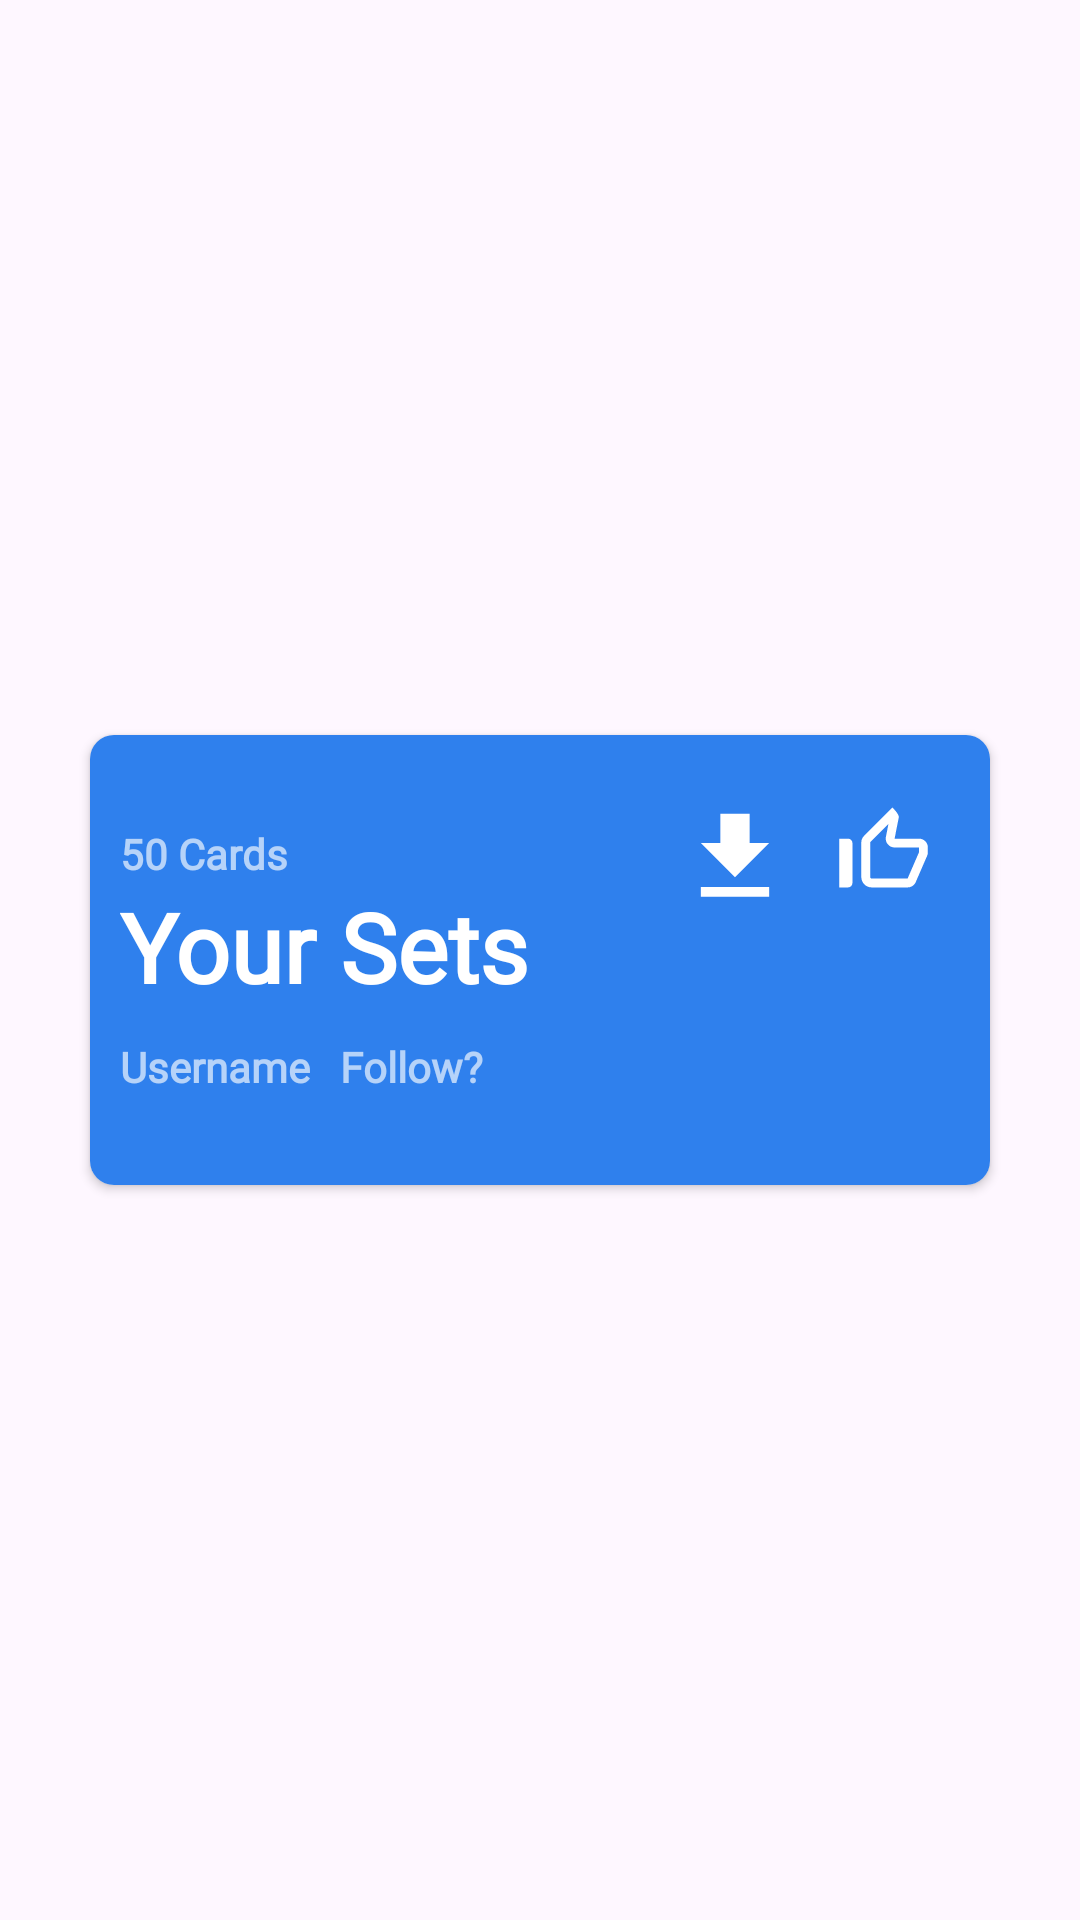

Where icons sit on this 1080*1920 app screen, as (x1,y1,x2,y2):
download: (700,813,770,897)
notliked: (839,807,928,888)
